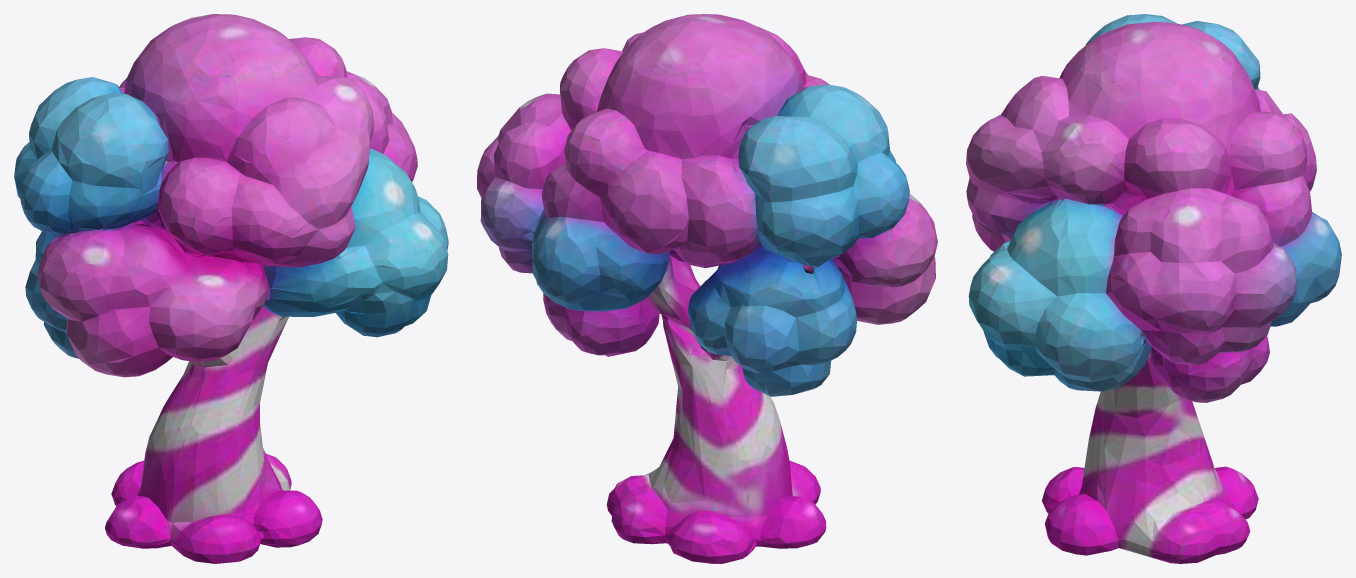
File: arbre.glb
3 renders of one model, left to right at view 1: azimuth 30°, elevation 25°; view 2: azimuth 150°, elevation 25°; view 3: azimuth 270°, elevation 25°, orthographic.
Visible parts, largest first — view 1: geometry_0; view 2: geometry_0; view 3: geometry_0.
Part boxes in pixels (x1,y1,x2,y2): geometry_0: (14, 14, 448, 563); geometry_0: (477, 14, 937, 563); geometry_0: (966, 14, 1341, 563).
Bounding box in the file's own units: 0.8463 × 0.9981 × 0.6812.
1 material, 1 textured.
